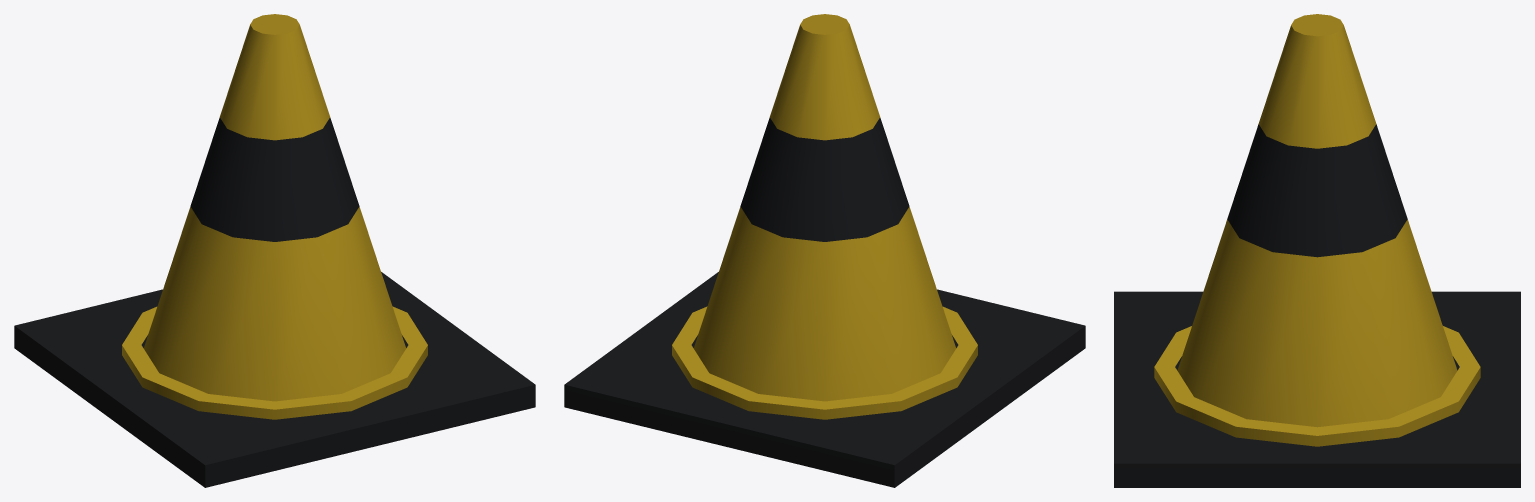
Rendered from sign.cone.yellow.glb.
The picture shows the model from 3 angles, left to right: view 1: azimuth 30°, elevation 25°; view 2: azimuth 150°, elevation 25°; view 3: azimuth 270°, elevation 25°; orthographic projection. The views are drawn at different scales.
Parts seen in each view (by area): view 1: sign_cone_yellow; view 2: sign_cone_yellow; view 3: sign_cone_yellow.
Boxes of the visible parts, x1,y1,x2,y2 form: sign_cone_yellow: [14, 14, 535, 487]; sign_cone_yellow: [564, 14, 1085, 487]; sign_cone_yellow: [1114, 14, 1520, 487].
Size of what is drawn, in the model's own units: 0.685 by 0.7 by 0.685.
